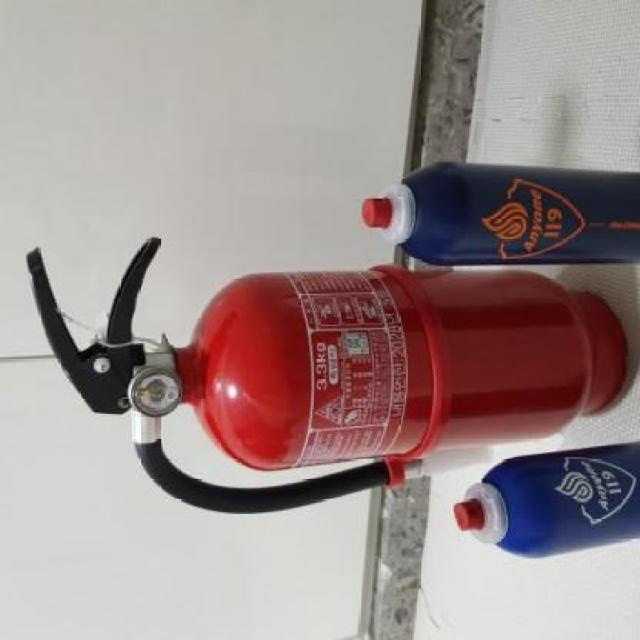fire extinguisher: (25, 237, 627, 515)
